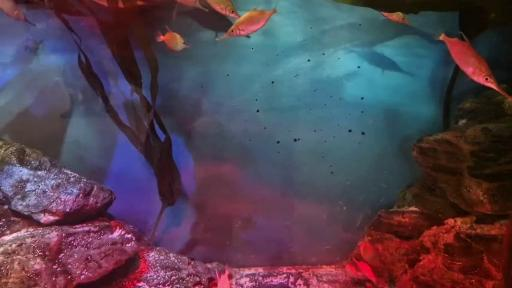Fish: (438, 33, 511, 100), (217, 7, 277, 40), (347, 48, 413, 76), (180, 10, 233, 38), (0, 0, 35, 26), (156, 26, 189, 51), (502, 214, 511, 287), (206, 0, 240, 18), (360, 242, 380, 266), (355, 261, 376, 283), (380, 12, 410, 24), (175, 0, 207, 10), (218, 266, 231, 287)
